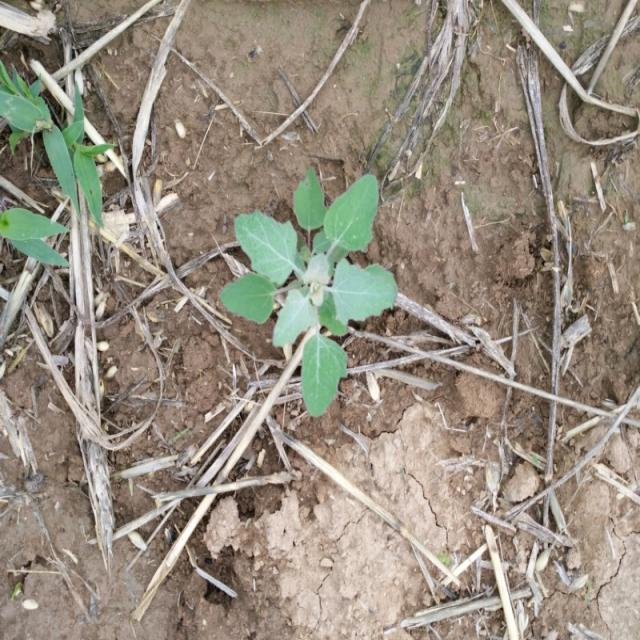goosefoots: (212, 163, 406, 403)
